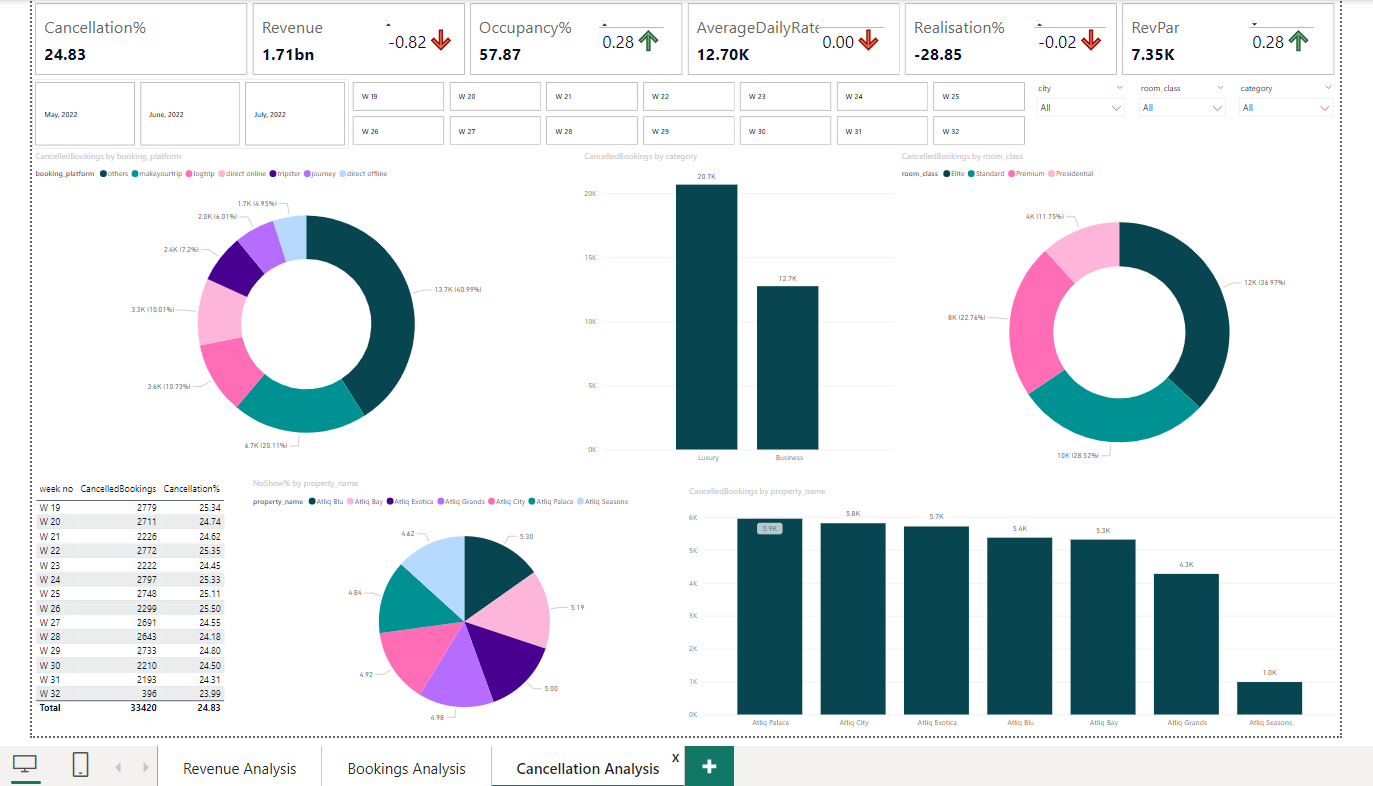

The dashboard page shown, as its layout file describes it:
{"tool":"powerbi","page":{"name":"Cancellation Analysis","canvas":[1920,1080],"ordinal":2},"visuals":[{"type":"slicer","fields":{"Values":["Dim_hotel.city"]},"box":[1463.8,115,150,103.8],"z":0},{"type":"slicer","fields":{"Values":["Dim_room.room_class"]},"box":[1613.8,115,147.5,103.8],"z":1000},{"type":"slicer","fields":{"Values":["Dim_hotel.category"]},"box":[1761.2,115,158.8,103.8],"z":2000},{"type":"advancedSlicerVisual","fields":{"Values":["Dim_date.mmm yy"]},"box":[0,115,466.2,103.8],"z":3000},{"type":"advancedSlicerVisual","fields":{"Values":["Dim_date.week no"]},"box":[466.2,115,997.5,103.8],"z":4000},{"type":"cardVisual","fields":{"Data":["_Measure.Cancellation%","_Measure.Revenue","_Measure.Occupancy%","_Measure.AverageDailyRate","_Measure.Realisation%","_Measure.RevPar"]},"box":[0,0,1920,115],"z":5000},{"type":"tableEx","fields":{"Values":["_Measure.RevenueWoWchange"]},"box":[507.5,12.5,123.8,80],"z":6000},{"type":"tableEx","fields":{"Values":["_Measure.OccupanctWoWchange%"]},"box":[825,12.5,125,81.2],"z":7000},{"type":"tableEx","fields":{"Values":["_Measure.RealisationWoWchange%"]},"box":[1463.8,12.5,123.8,80],"z":8000},{"type":"tableEx","fields":{"Values":["_Measure.RevparWoWChange%"]},"box":[1780,12.5,123.8,80],"z":9000},{"type":"tableEx","fields":{"Values":["_Measure.ADRWoWchange%"]},"box":[1147.5,12.5,123.8,80],"z":10000},{"type":"columnChart","fields":{"Category":["Dim_hotel.category"],"Y":["_Measure.CancelledBookings"]},"box":[805.2,220.1,465.9,467.7],"z":11000},{"type":"donutChart","fields":{"Category":["Dim_room.room_class"],"Y":["_Measure.CancelledBookings"]},"box":[1271.1,220.1,649.3,491.6],"z":12000},{"type":"lineStackedColumnComboChart","fields":{"Category":["Dim_hotel.property_name"],"Y":["_Measure.CancelledBookings"]},"box":[959.3,711.7,961.1,365],"z":13000},{"type":"tableEx","fields":{"Values":["Dim_date.week no","_Measure.CancelledBookings","_Measure.Cancellation%"]},"box":[0,700.7,319.2,379.7],"z":14000},{"type":"pieChart","fields":{"Category":["Dim_hotel.property_name"],"Y":["_Measure.NoShow%"]},"box":[319.2,700.7,631,379.7],"z":15000},{"type":"donutChart","fields":{"Category":["Fact_bookings.booking_platform"],"Y":["_Measure.CancelledBookings"]},"box":[0,220.1,805.2,467.7],"z":16000}]}

Visuals, with their boxes on the page's 1920x1080 design canvas (x1, y1, x2, y2). These are canvas units, not pixel positions in the 1373x786 screenshot, which may show the page scaled, cropped or inside an application window:
slicer - Dim_hotel.city: Rect(1464, 115, 1614, 219)
slicer - Dim_room.room_class: Rect(1614, 115, 1761, 219)
slicer - Dim_hotel.category: Rect(1761, 115, 1920, 219)
advancedSlicerVisual - Dim_date.mmm yy: Rect(0, 115, 466, 219)
advancedSlicerVisual - Dim_date.week no: Rect(466, 115, 1464, 219)
cardVisual - _Measure.Cancellation% x _Measure.Revenue: Rect(0, 0, 1920, 115)
tableEx - _Measure.RevenueWoWchange: Rect(508, 12, 631, 92)
tableEx - _Measure.OccupanctWoWchange%: Rect(825, 12, 950, 94)
tableEx - _Measure.RealisationWoWchange%: Rect(1464, 12, 1588, 92)
tableEx - _Measure.RevparWoWChange%: Rect(1780, 12, 1904, 92)
tableEx - _Measure.ADRWoWchange%: Rect(1148, 12, 1271, 92)
columnChart - Dim_hotel.category x _Measure.CancelledBookings: Rect(805, 220, 1271, 688)
donutChart - Dim_room.room_class x _Measure.CancelledBookings: Rect(1271, 220, 1920, 712)
lineStackedColumnComboChart - Dim_hotel.property_name x _Measure.CancelledBookings: Rect(959, 712, 1920, 1077)
tableEx - Dim_date.week no x _Measure.CancelledBookings: Rect(0, 701, 319, 1080)
pieChart - Dim_hotel.property_name x _Measure.NoShow%: Rect(319, 701, 950, 1080)
donutChart - Fact_bookings.booking_platform x _Measure.CancelledBookings: Rect(0, 220, 805, 688)
